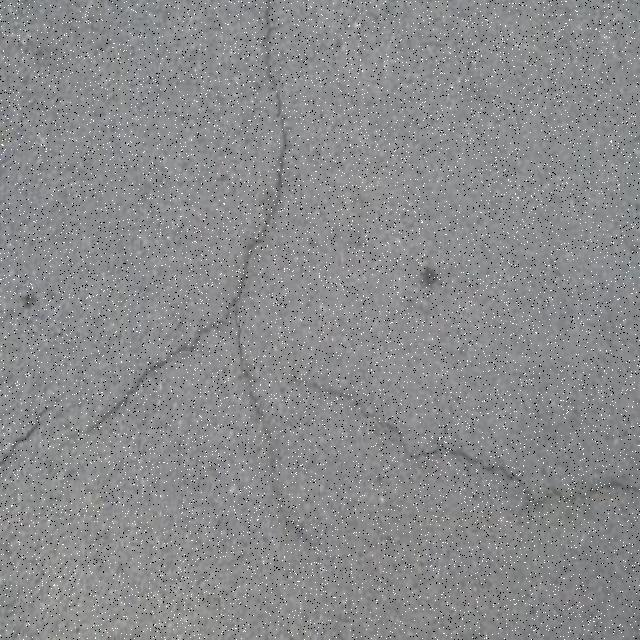Crack: (71, 5, 302, 533), (290, 377, 640, 508), (0, 410, 48, 469)
